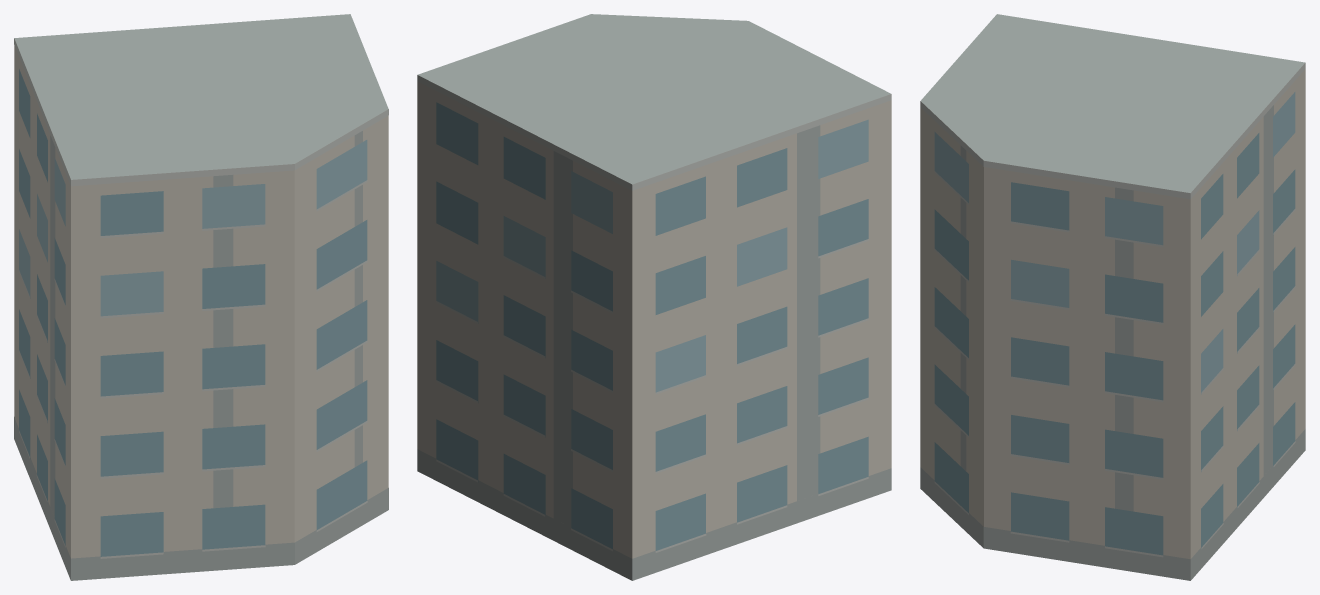
File: residential-b339dc8d-1759-483b-950b-3a5c3ae4acde.glb
3 renders of one model, left to right at view 1: azimuth 30°, elevation 25°; view 2: azimuth 150°, elevation 25°; view 3: azimuth 270°, elevation 25°, orthographic. The views are drawn at different scales.
Visible parts, largest first — view 1: residential-b339dc8d-1759-483b-950b-3a5c3ae4acde.tmp; view 2: residential-b339dc8d-1759-483b-950b-3a5c3ae4acde.tmp; view 3: residential-b339dc8d-1759-483b-950b-3a5c3ae4acde.tmp.
Part boxes in pixels (box(x1,y1,x2,y2)): residential-b339dc8d-1759-483b-950b-3a5c3ae4acde.tmp: box(14, 14, 388, 580); residential-b339dc8d-1759-483b-950b-3a5c3ae4acde.tmp: box(417, 14, 891, 580); residential-b339dc8d-1759-483b-950b-3a5c3ae4acde.tmp: box(920, 14, 1305, 580).
Bounding box in the file's own units: 15.12 × 15.25 × 13.74.
